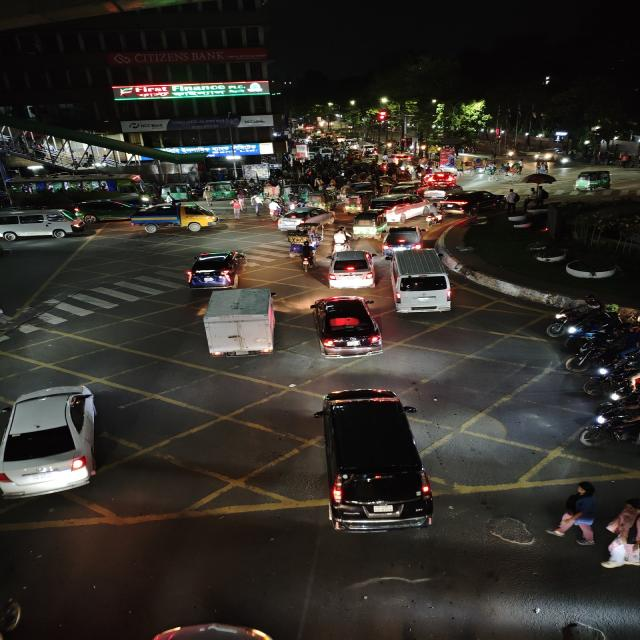car: (310, 385, 448, 552), (0, 378, 113, 498), (306, 294, 386, 362), (385, 248, 456, 318), (0, 208, 88, 244), (182, 248, 251, 290), (322, 249, 380, 291), (440, 188, 507, 216), (368, 193, 430, 221), (274, 206, 336, 232), (80, 198, 139, 224), (379, 224, 427, 253), (422, 170, 462, 187), (421, 185, 449, 201)
cng: (182, 248, 251, 288), (572, 169, 614, 193), (350, 212, 388, 238), (203, 180, 236, 202), (160, 182, 193, 202)
motorcycle: (584, 396, 640, 449), (581, 360, 639, 400), (290, 242, 320, 271), (423, 203, 445, 227)
pedestrian: (545, 478, 601, 546), (328, 225, 352, 253), (505, 188, 522, 214), (254, 195, 267, 218)
pickup_van: (131, 202, 223, 234)
rickshaw: (340, 191, 370, 213)
truck: (192, 286, 285, 362)
